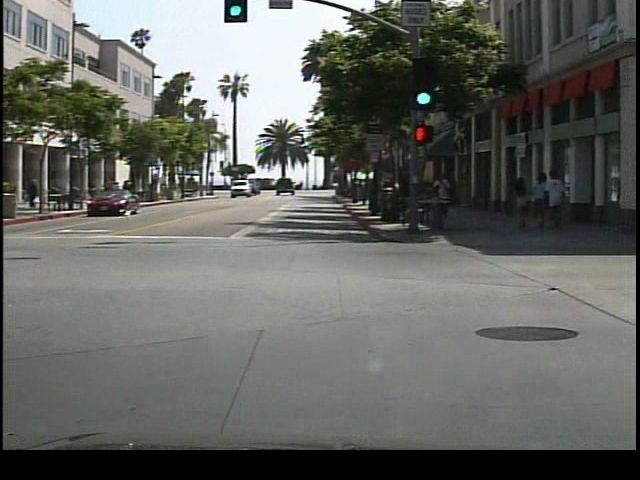person: (438, 167, 465, 222), (29, 175, 45, 212)
